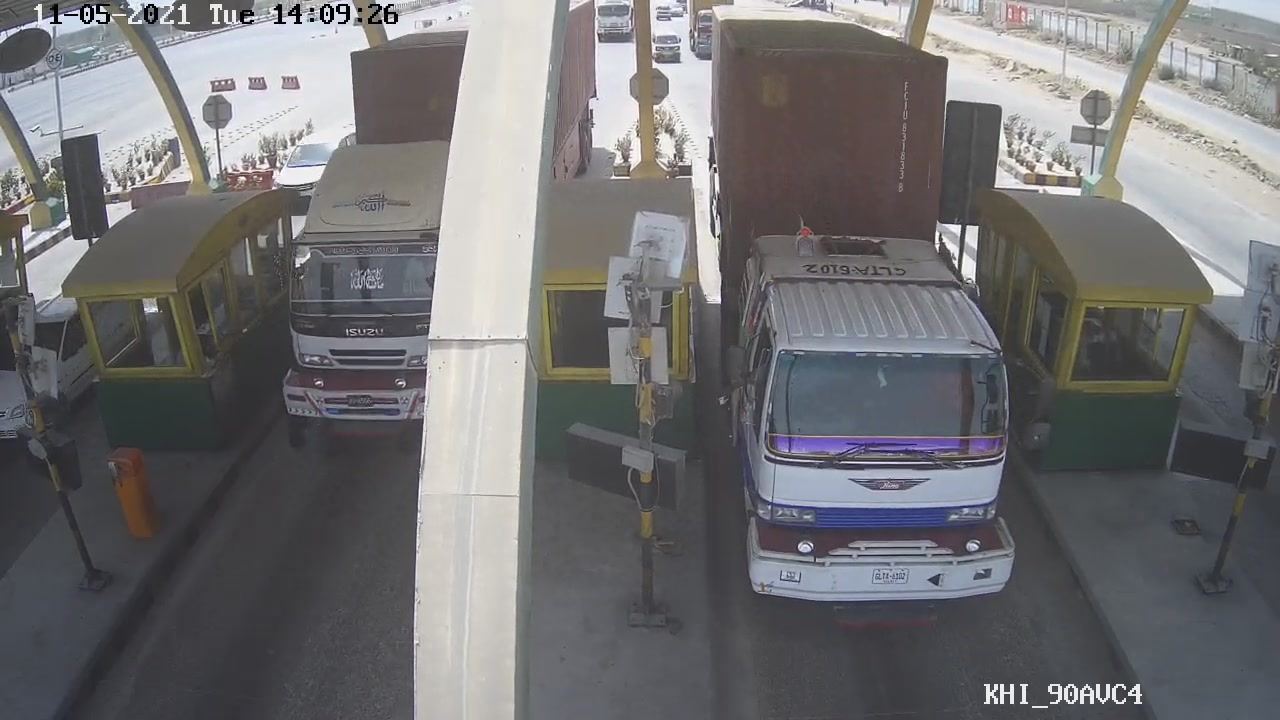F6: (702, 24, 1039, 609)
